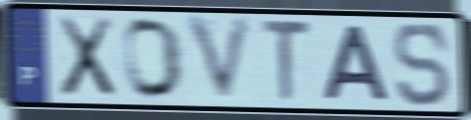A: (320, 22, 393, 104)
O: (121, 15, 186, 102)
S: (391, 20, 454, 110)
T: (259, 17, 314, 106)
V: (183, 13, 258, 108)
X: (54, 14, 118, 100)
